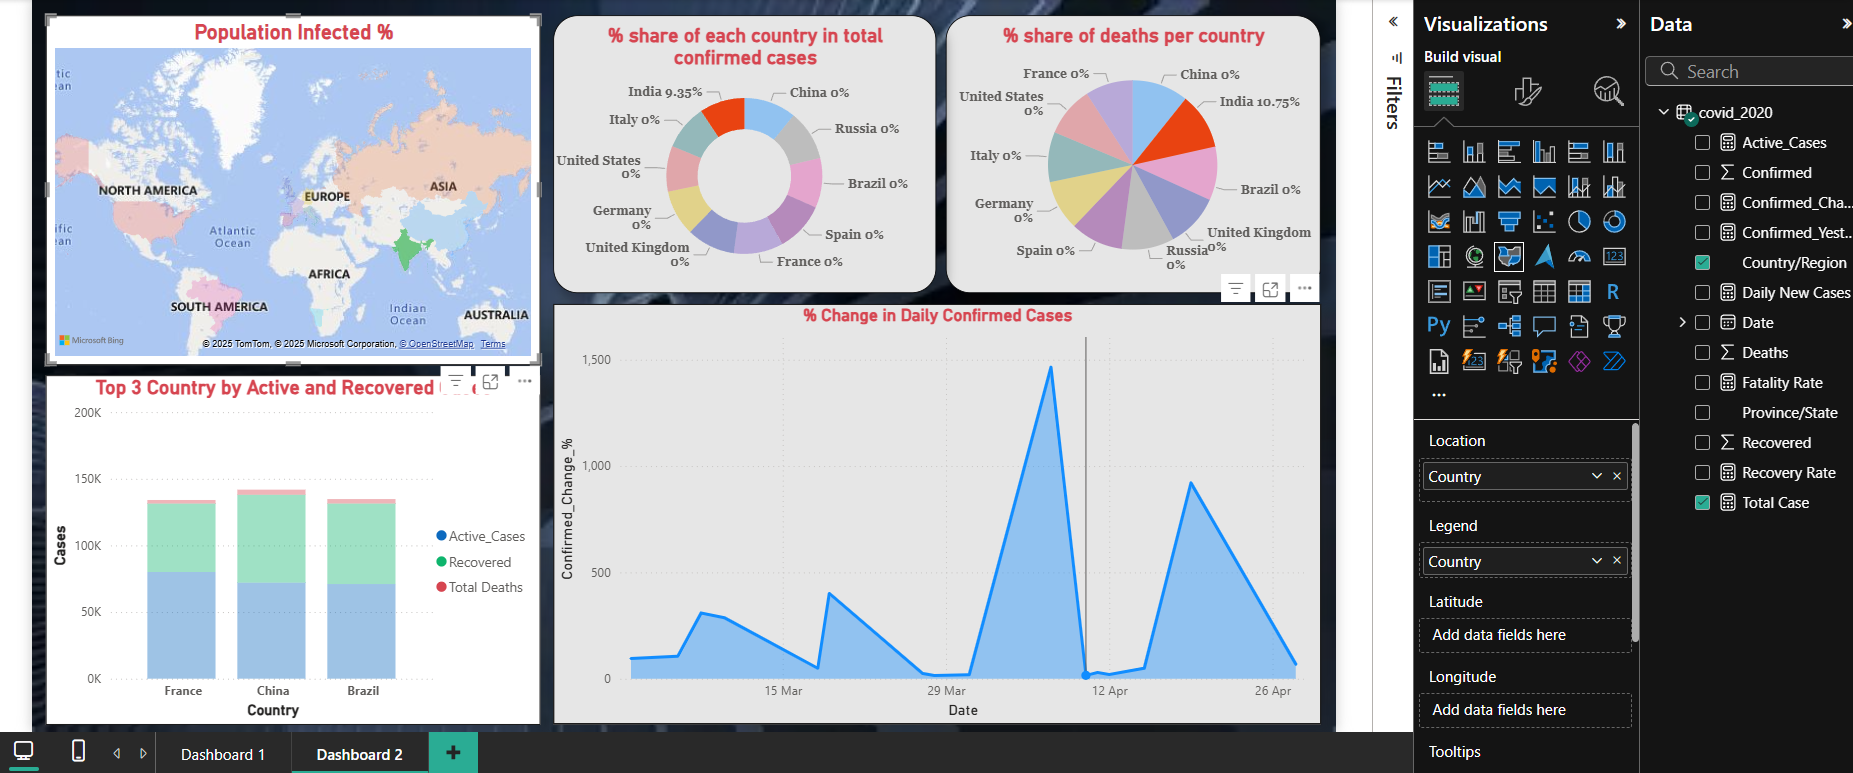

Layout of this report page (visuals, bound fields, positions):
{"tool":"powerbi","page":{"name":"Dashboard 2","canvas":[1280,720],"ordinal":1},"visuals":[{"type":"filledMap","title":"Population Infected %","fields":{"Category":["covid_2020.Country/Region"],"Series":["covid_2020.Country/Region"]},"box":[13.7,16.5,485.8,343.1],"z":0},{"type":"columnChart","title":"Top 3 Country by Active and Recovered Cases","fields":{"Category":["covid_2020.Country/Region"],"Y":["covid_2020.Active_Cases","Sum(covid_2020.Recovered)","Sum(covid_2020.Deaths)"]},"box":[13.7,369.1,485.8,343.1],"z":1000},{"type":"pieChart","title":"% share of deaths per country","fields":{"Y":["Count(covid_2020.Deaths)"],"Category":["covid_2020.Country/Region"]},"box":[897.4,16.5,367.8,273.1],"z":2000},{"type":"donutChart","title":"% share of each country in total confirmed cases","fields":{"Y":["Sum(covid_2020.Confirmed)"],"Category":["covid_2020.Country/Region"]},"box":[511.8,16.5,376,273.1],"z":3000},{"type":"lineChart","title":"% Change in Daily Confirmed Cases","fields":{"Y":["covid_2020.Confirmed_Change_%"],"Category":["covid_2020.Date"]},"box":[511.8,299.1,753.3,413],"z":3001}]}

Visuals, with their boxes in screenshot pixels (x1, y1, x2, y2):
"Population Infected %" filledMap: [38,12,534,362]
"Top 3 Country by Active and Recovered Cases" columnChart: [38,372,534,722]
"% share of deaths per country" pieChart: [939,12,1315,291]
"% share of each country in total confirmed cases" donutChart: [546,12,930,291]
"% Change in Daily Confirmed Cases" lineChart: [546,300,1315,722]
